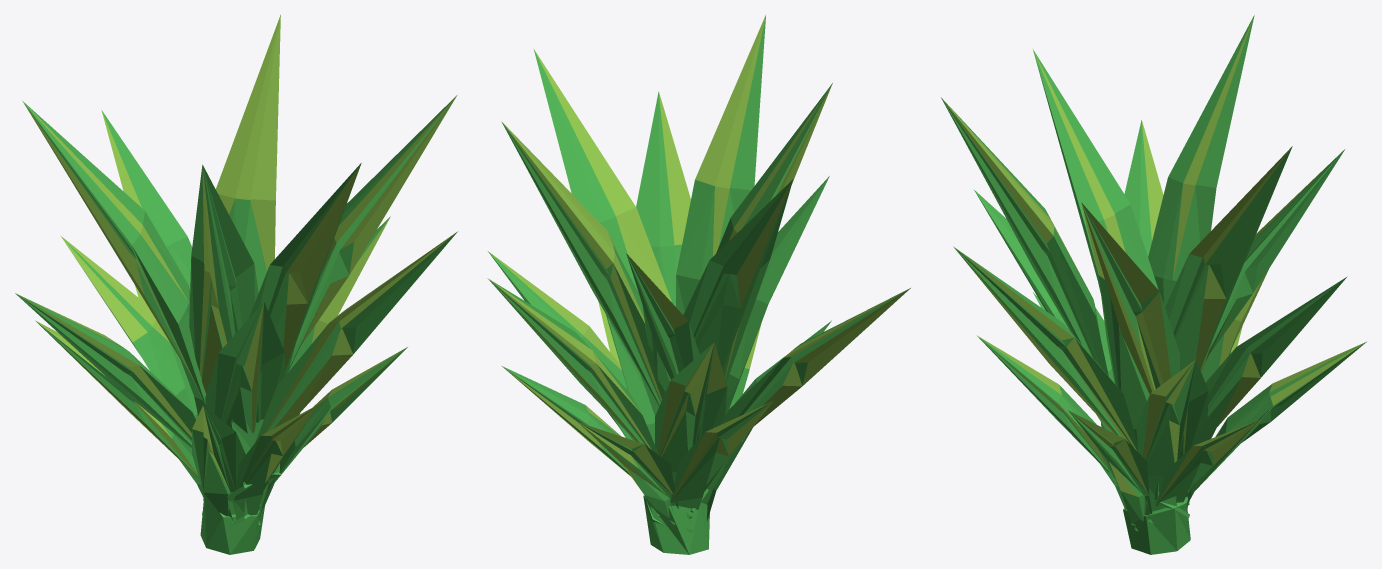
Rendered from plant1.glb.
3 views of the same model, side by side, from view 1: azimuth 30°, elevation 25°; view 2: azimuth 150°, elevation 25°; view 3: azimuth 270°, elevation 25° (orthographic). The views are drawn at different scales.
Parts seen in each view (by area): view 1: group1988922055, group1683822116, group477196412, group1519413547, group1523433100, group5207834, group2091568206, group1179193522, group1717734375, group229094793, group1694690134, group1619242583 (+4 smaller); view 2: group1523433100, group5207834, group477196412, group1988922055, group1519413547, group1717734375, group1745790544, group1179193522, group1694690134, group701551766, group2091568206, group1683822116 (+5 smaller); view 3: group5207834, group1988922055, group477196412, group1523433100, group1519413547, group1683822116, group1563327142, group1745790544, group1694690134, group1718004104, group1460897726, group1619242583 (+5 smaller).
Boxes of the visible parts, box(x1,y1,x2,y2) form: group1988922055: box(22, 101, 206, 415); group1683822116: box(189, 164, 258, 416); group477196412: box(203, 14, 280, 508); group1519413547: box(230, 231, 457, 526); group1523433100: box(227, 163, 361, 501); group5207834: box(288, 95, 457, 371); group2091568206: box(205, 301, 285, 433); group1179193522: box(15, 293, 233, 523); group1717734375: box(61, 236, 195, 417); group229094793: box(192, 405, 245, 522); group1694690134: box(101, 110, 197, 419); group1619242583: box(234, 404, 318, 525); group1523433100: box(676, 15, 765, 314); group5207834: box(533, 49, 671, 525); group477196412: box(501, 121, 692, 518); group1988922055: box(683, 179, 793, 381); group1519413547: box(636, 91, 690, 306); group1717734375: box(655, 342, 727, 516); group1745790544: box(487, 278, 692, 532); group1179193522: box(688, 288, 910, 508); group1694690134: box(626, 253, 699, 391); group701551766: box(670, 401, 773, 509); group2091568206: box(725, 176, 829, 416); group1683822116: box(690, 83, 832, 512); group5207834: box(1081, 202, 1189, 517); group1988922055: box(1148, 15, 1254, 306); group477196412: box(1165, 146, 1292, 372); group1523433100: box(941, 97, 1130, 493); group1519413547: box(953, 246, 1153, 523); group1683822116: box(1033, 49, 1158, 293); group1563327142: box(1136, 359, 1208, 511); group1745790544: box(1188, 276, 1347, 504); group1694690134: box(1206, 149, 1344, 360); group1718004104: box(1186, 341, 1366, 506); group1460897726: box(1068, 410, 1152, 525); group1619242583: box(977, 335, 1137, 531).
Bounding box in the file's own units: 1.09 × 1.15 × 0.9696.
